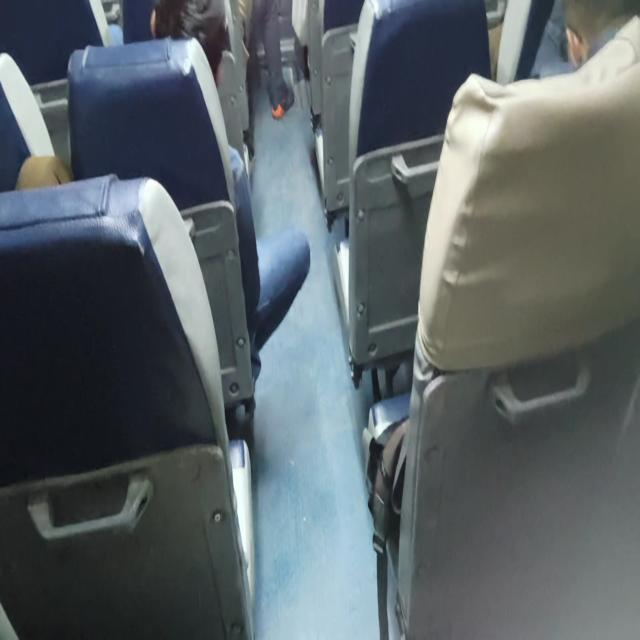person: (367, 1, 639, 637), (149, 0, 311, 412), (234, 0, 295, 158), (150, 0, 229, 86), (560, 0, 636, 71)
